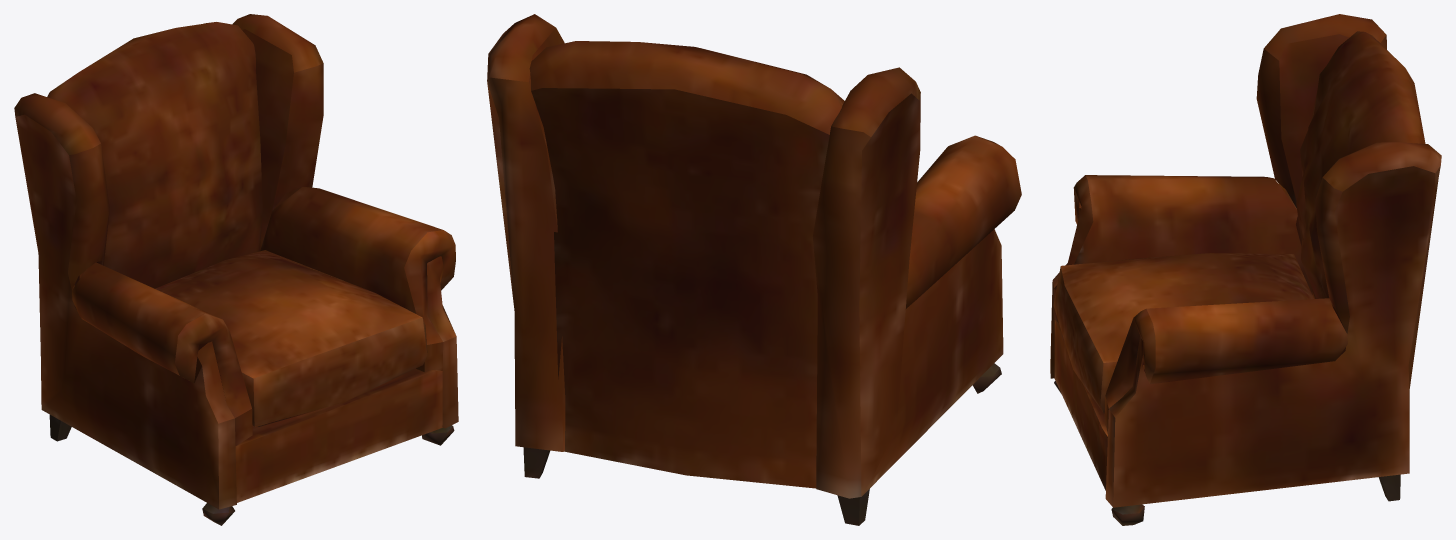
The model's file is armchair.lod1.glb.
3 views of the same model, side by side, from view 1: azimuth 30°, elevation 25°; view 2: azimuth 150°, elevation 25°; view 3: azimuth 270°, elevation 25° (orthographic). The views are drawn at different scales.
Visible parts, largest first — view 1: ARMCHAIR_TEXSET_A_0; view 2: ARMCHAIR_TEXSET_A_0; view 3: ARMCHAIR_TEXSET_A_0.
Boxes of the visible parts, x1,y1,x2,y2 form: ARMCHAIR_TEXSET_A_0: (14, 14, 458, 525); ARMCHAIR_TEXSET_A_0: (487, 14, 1021, 525); ARMCHAIR_TEXSET_A_0: (1050, 14, 1441, 525).
Bounding box in the file's own units: 0.9939 × 0.9972 × 0.9433.
Materials: 1 (1 with a texture image).
